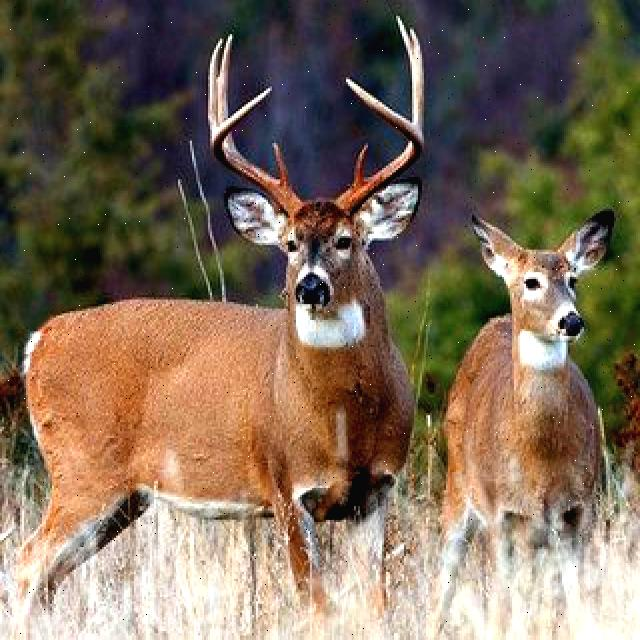deer: (172, 12, 434, 347), (456, 193, 631, 364)
